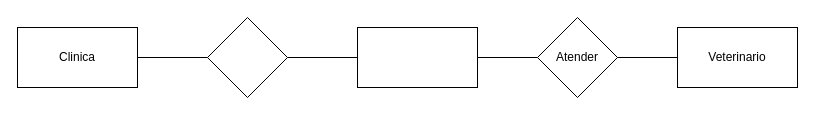
This 815x115 diagram has some shape labels left out. The shapes that lost their labels are listed below. From the top down, each one's centre as x and y in pixels, then its label:
At [247,57]: "Cadastrar".
At [417,57]: "Pet".
